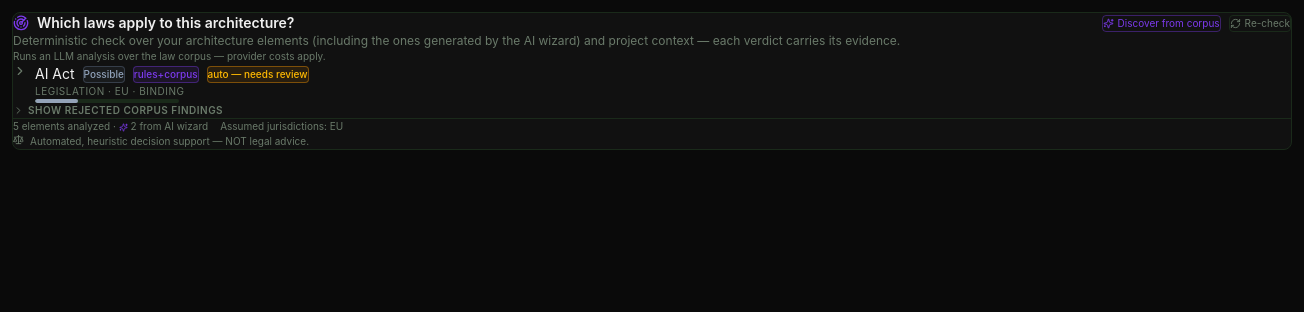
Test: ApplicabilityCheck — "Paragraphs the judge reviewed" expander (THE-423 Task 14) › 404 / tracing-disabled: graceful "no evidence trace available" note, no crash
Click the text "AI Act": (55, 74) [35,64,75,84]
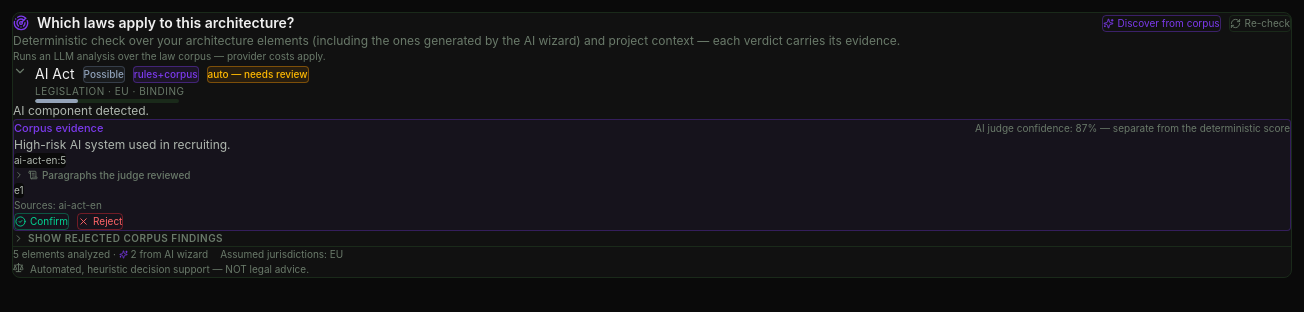
Click the button "Paragraphs the judge reviewed": (102, 175) [14,168,190,182]
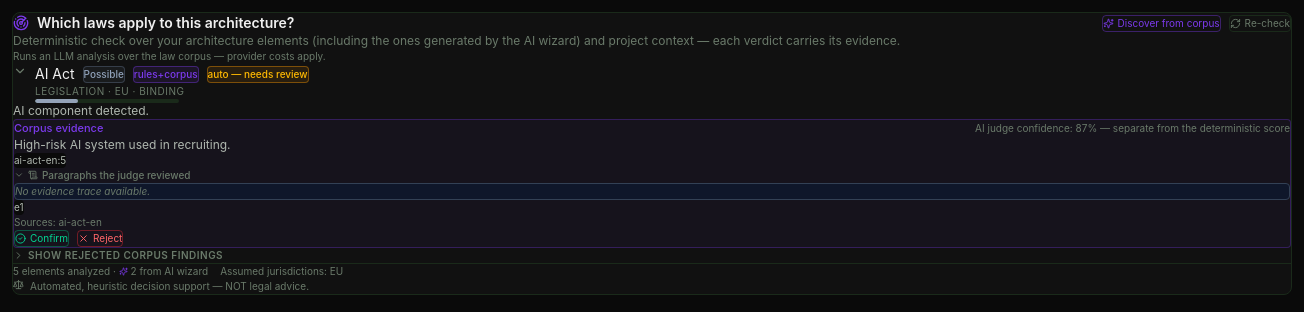
expect the text "AI Act" is shown: met, box [35,64,75,84]
expect the text "No evidence trace available." is shown: met, box [15,184,150,196]
